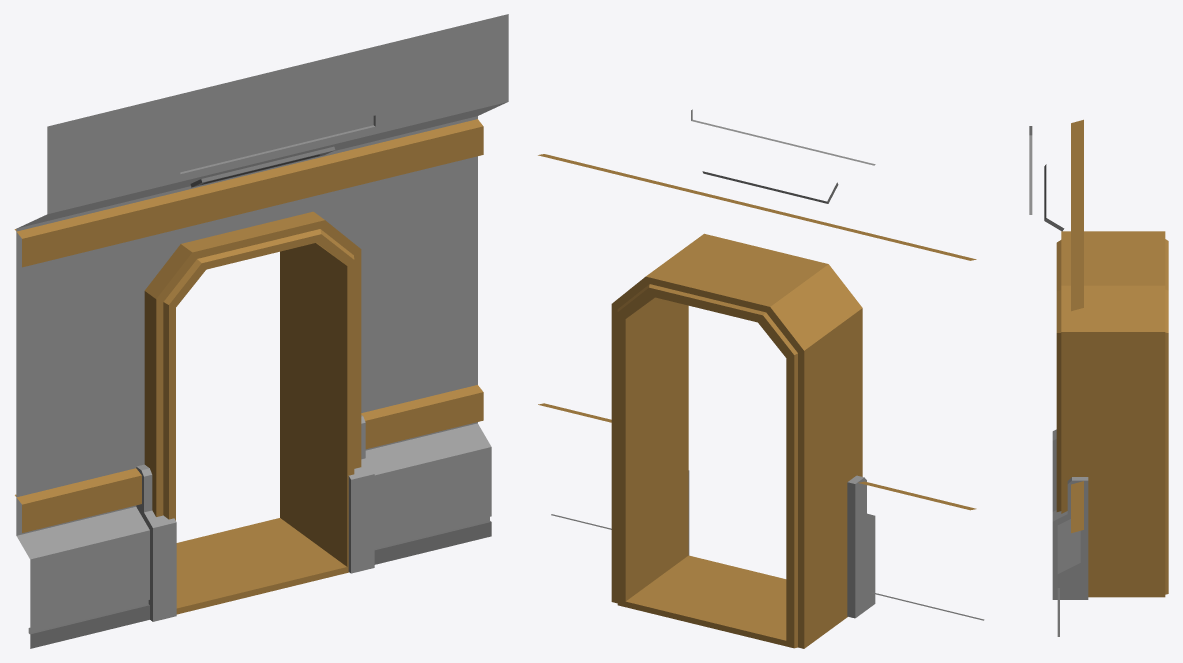
The picture shows the model from 3 angles, left to right: view 1: azimuth 30°, elevation 25°; view 2: azimuth 150°, elevation 25°; view 3: azimuth 270°, elevation 25°; orthographic projection. The views are drawn at different scales.
Parts seen in each view (by area): view 1: DoorSingle_Wall_SideA; view 2: DoorSingle_Wall_SideA; view 3: DoorSingle_Wall_SideA.
Boxes of the visible parts, x1,y1,x2,y2 form: DoorSingle_Wall_SideA: [14, 14, 508, 648]; DoorSingle_Wall_SideA: [538, 109, 984, 648]; DoorSingle_Wall_SideA: [1029, 119, 1168, 636].
Size of the model in its own units: 4 by 4.44 by 1.25.
